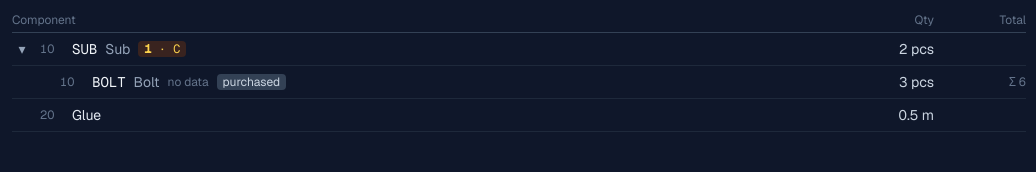
Test: BomTree › collapses a sub-assembly
Click the button with test id "bom-toggle-10" at (22, 49), box x1=12 y1=39 x2=32 y2=59
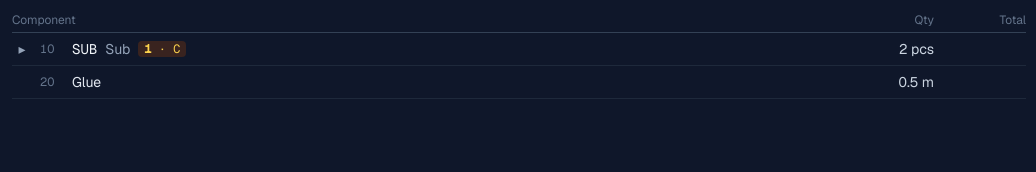
expect the element with test id "bom-line-20" is gone: met
